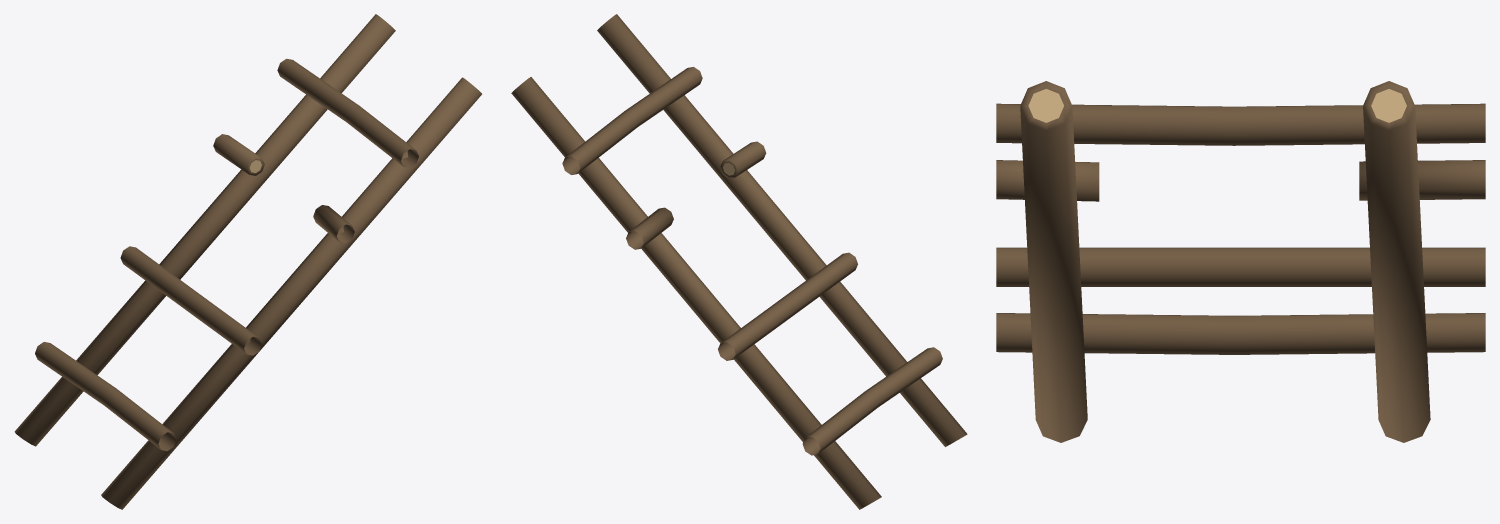
File: rpgpp_ag_roof_support_01_9x4x3_half_a_roof_01d.fbx
3 renders of one model, left to right at view 1: azimuth 30°, elevation 25°; view 2: azimuth 150°, elevation 25°; view 3: azimuth 270°, elevation 25°, orthographic. The views are drawn at different scales.
Parts seen in each view (by area): view 1: rpgpp_ag_roof_support_01_9x4x3_half_a_roof_01d; view 2: rpgpp_ag_roof_support_01_9x4x3_half_a_roof_01d; view 3: rpgpp_ag_roof_support_01_9x4x3_half_a_roof_01d.
Part boxes in pixels (x1,y1,x2,y2): rpgpp_ag_roof_support_01_9x4x3_half_a_roof_01d: (14, 14, 481, 509); rpgpp_ag_roof_support_01_9x4x3_half_a_roof_01d: (511, 14, 967, 509); rpgpp_ag_roof_support_01_9x4x3_half_a_roof_01d: (996, 81, 1485, 442).
Bounding box in the file's own units: 5.24 × 4.67 × 3.
